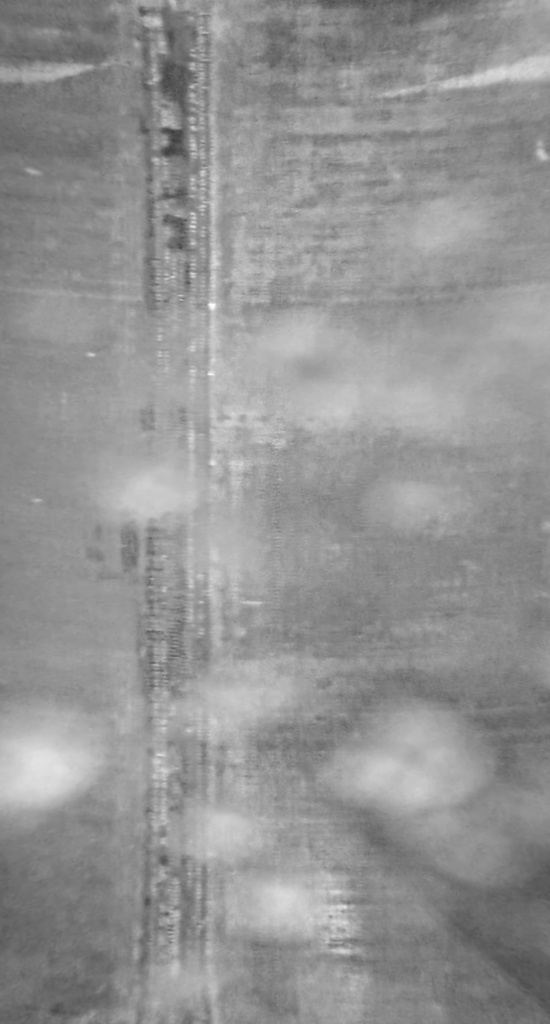splice: (126, 3, 223, 1024)
